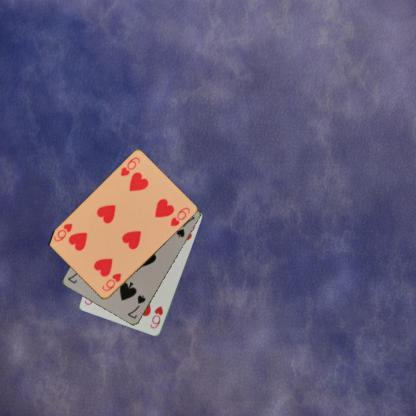6h: (117, 155, 142, 177), (147, 303, 165, 330), (100, 271, 122, 293)
7s: (125, 292, 147, 320)
